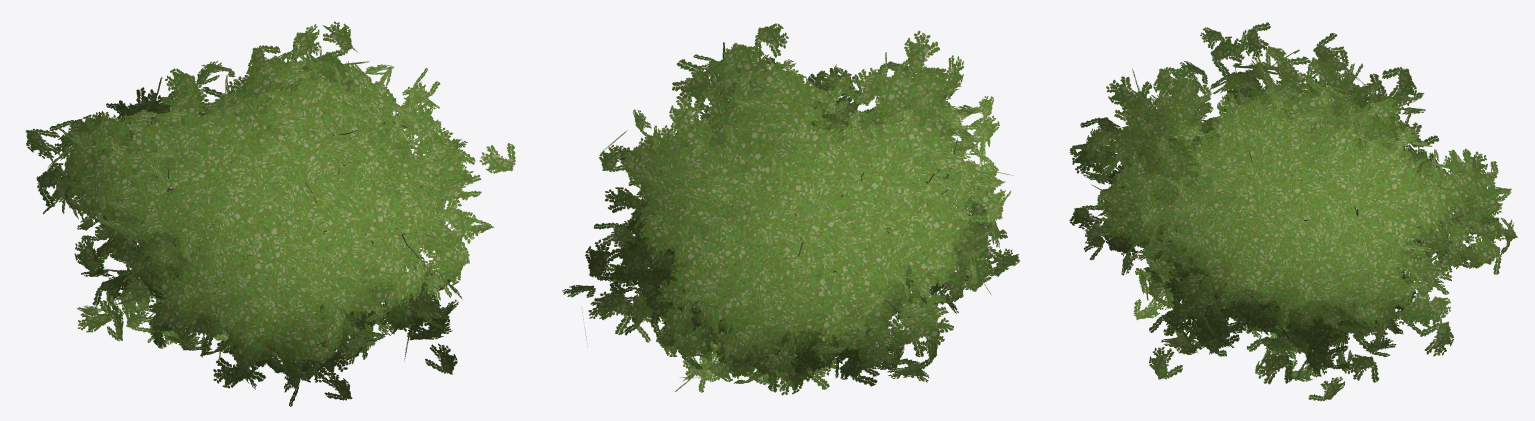
File: KO1_KermesOak_LowThicket_1m.glb
The picture shows the model from 3 angles, left to right: view 1: azimuth 30°, elevation 25°; view 2: azimuth 150°, elevation 25°; view 3: azimuth 270°, elevation 25°; orthographic projection. The views are drawn at different scales.
Parts seen in each view (by area): view 1: KO1_leaves; view 2: KO1_leaves; view 3: KO1_leaves.
Boxes of the visible parts, x1,y1,x2,y2 form: KO1_leaves: [25, 21, 515, 406]; KO1_leaves: [562, 23, 1019, 395]; KO1_leaves: [1069, 22, 1517, 401].
Bounding box in the file's own units: 1.49 × 1.17 × 1.69.
2 materials, 2 textured.
